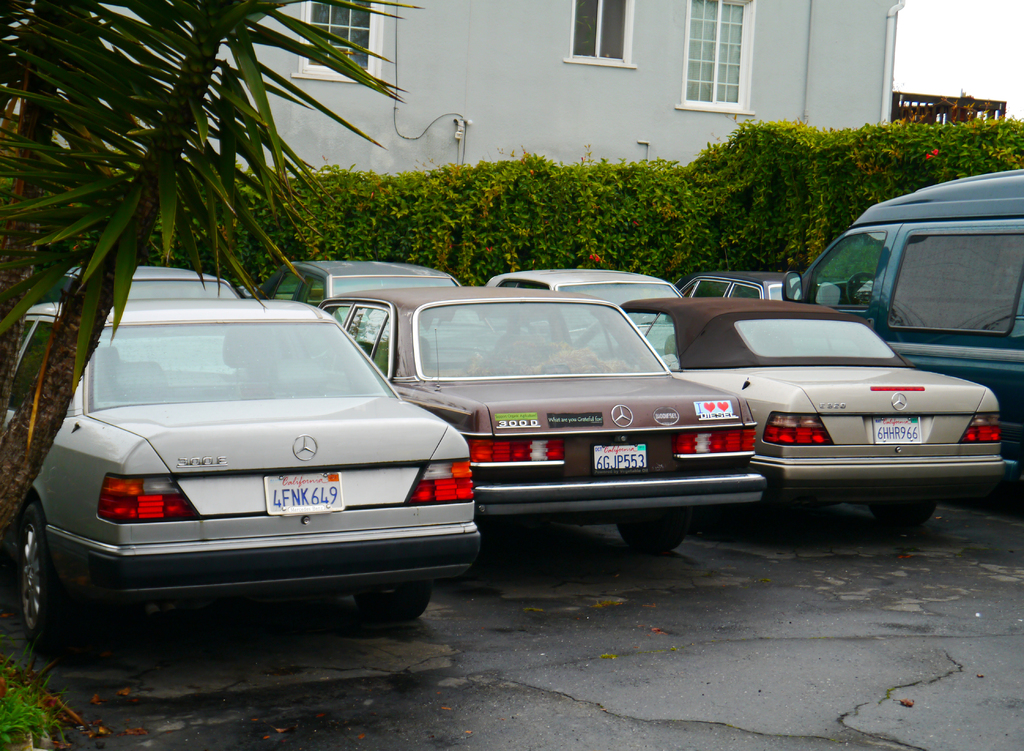license plate: (264, 474, 342, 510), (593, 442, 649, 471), (874, 418, 925, 443)
